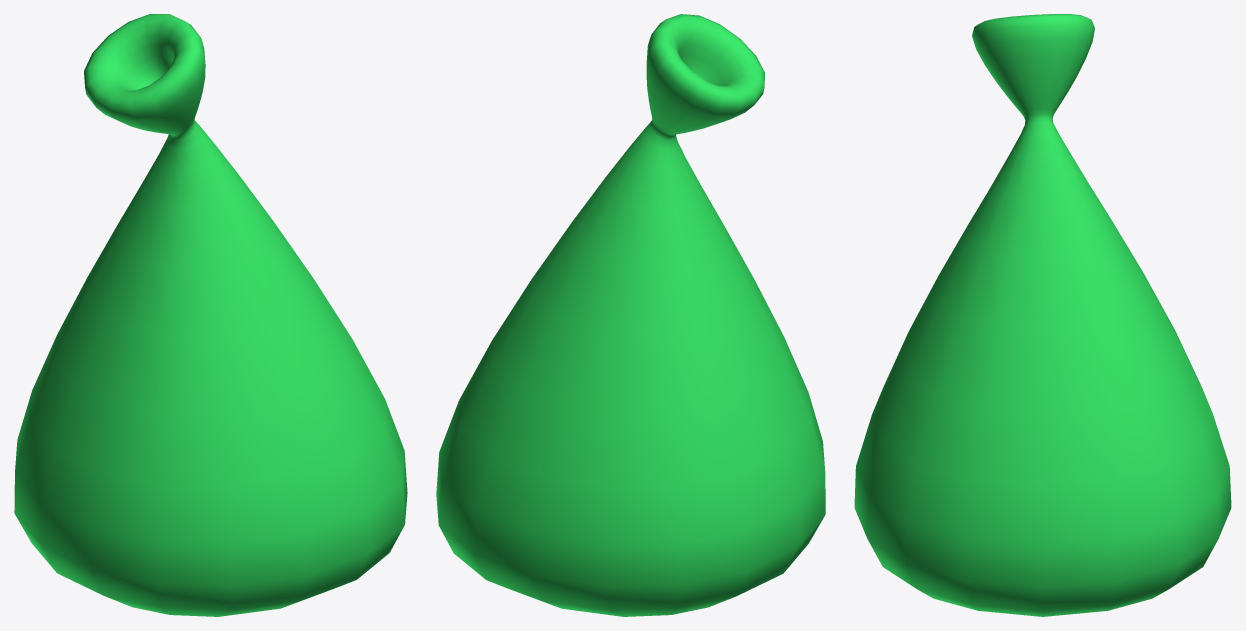
The model's file is sm_moneybag_v1.fbx.
3 renders of one model, left to right at view 1: azimuth 30°, elevation 25°; view 2: azimuth 150°, elevation 25°; view 3: azimuth 270°, elevation 25°, orthographic. The views are drawn at different scales.
Visible parts, largest first — view 1: SM_Money; view 2: SM_Money; view 3: SM_Money.
Boxes of the visible parts, x1=… form: SM_Money: x1=14, y1=14, x2=407, y2=616; SM_Money: x1=436, y1=14, x2=825, y2=616; SM_Money: x1=854, y1=14, x2=1231, y2=616.
Bounding box in the file's own units: 43.03 × 68.73 × 43.04.
